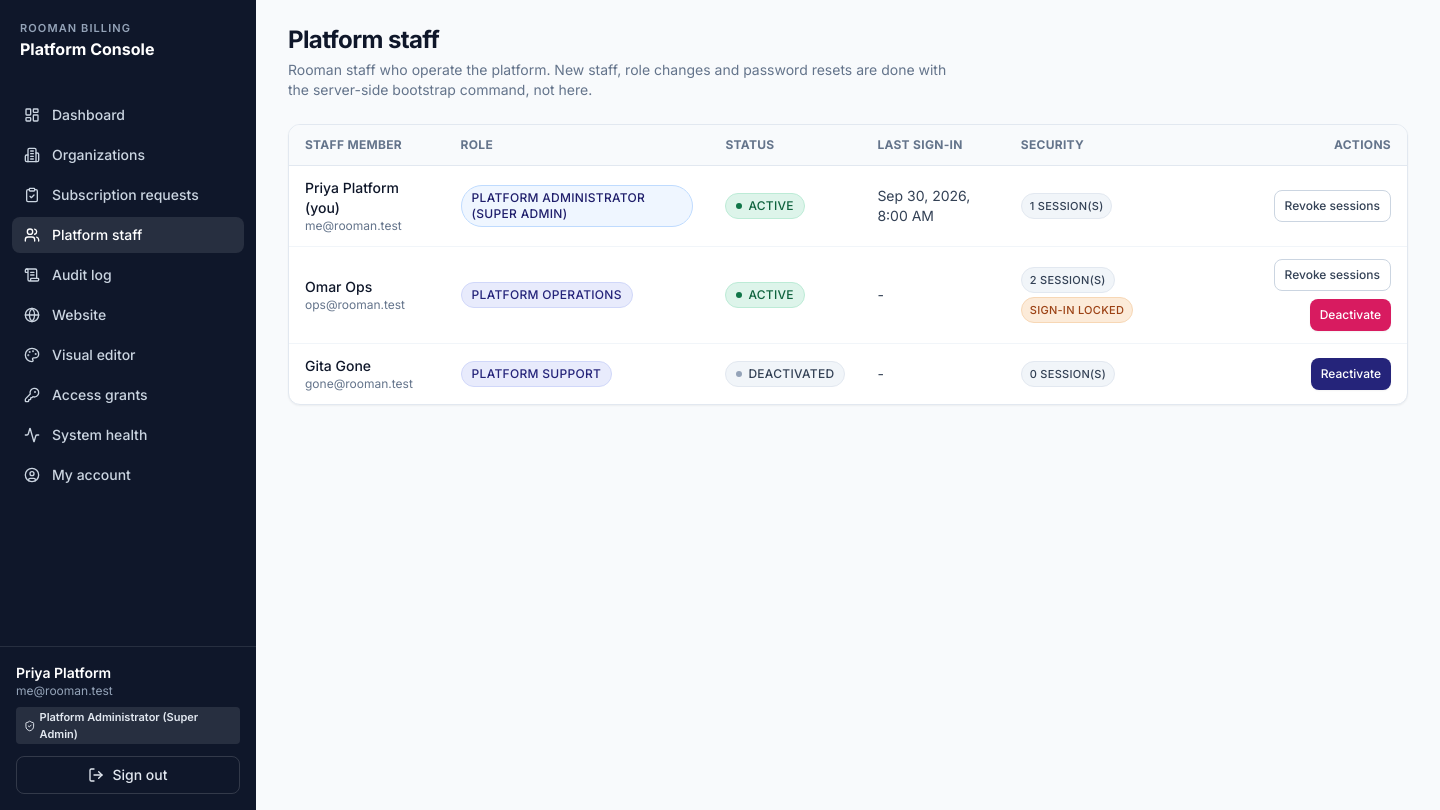
Test: platform staff › shows session metadata for a staff member
Click the button "Omar Ops". click: (339, 287)
box: x1=305 y1=277 x2=372 y2=297
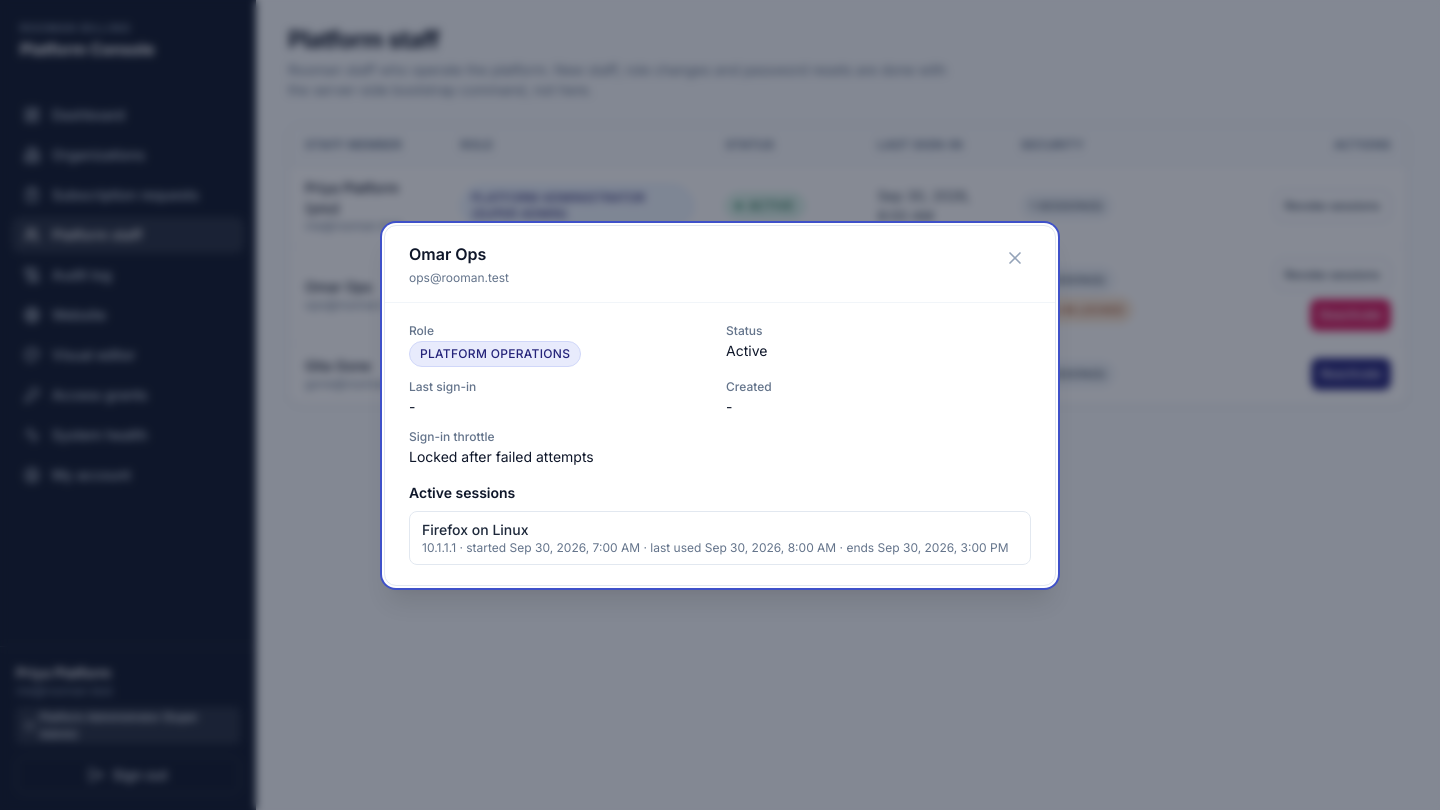
Expected: the text "Firefox on Linux" is shown, x1=422 y1=520 x2=528 y2=538
Expected: the text "Locked after failed attempts" is shown, x1=409 y1=448 x2=594 y2=464
